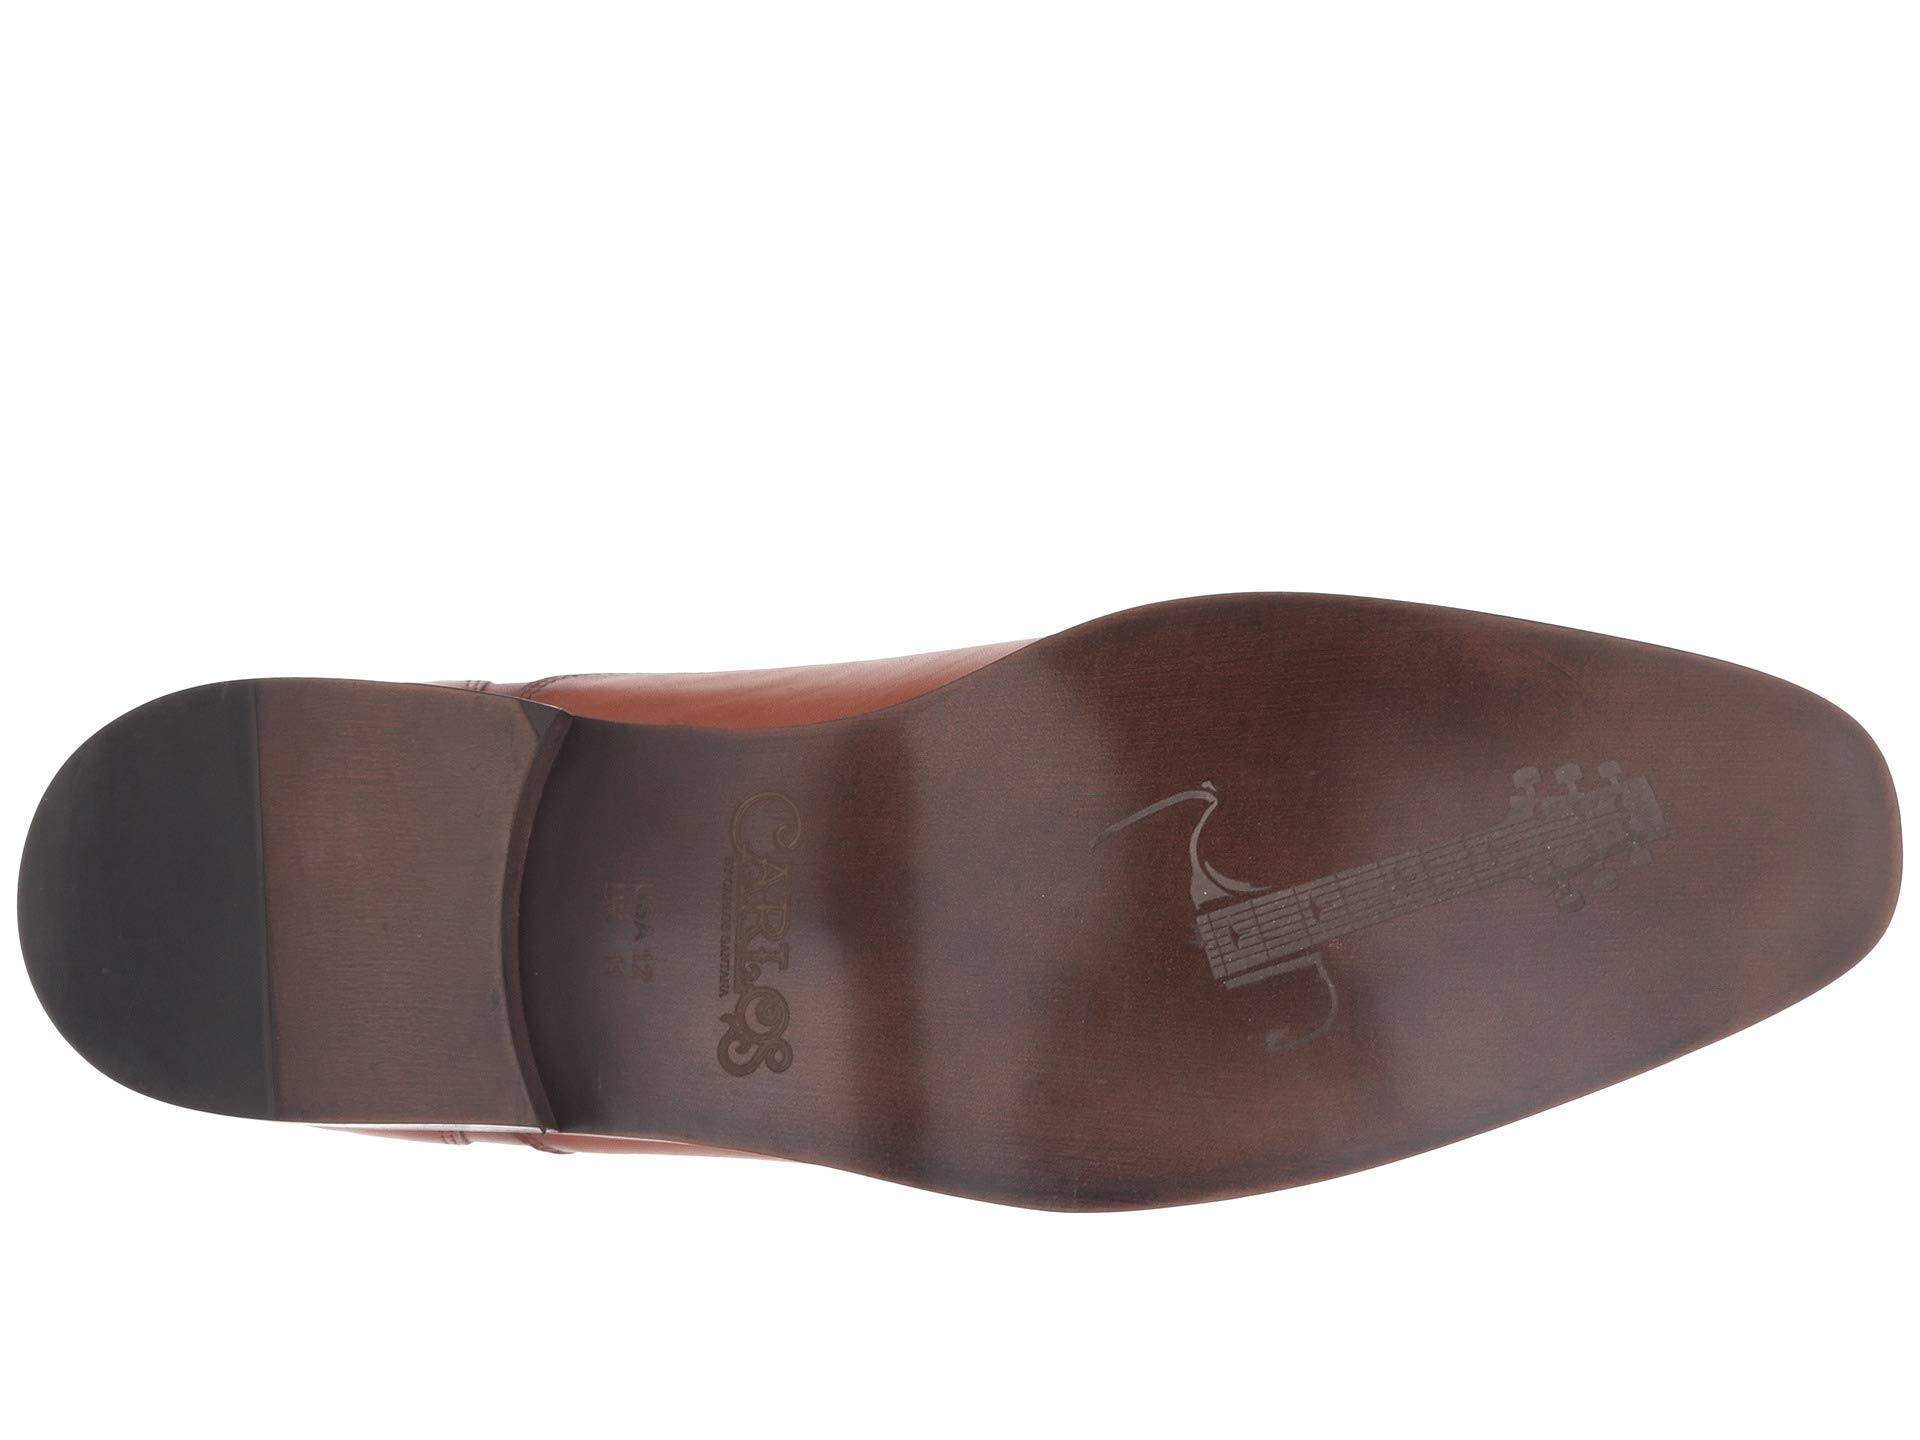line: (181, 691, 360, 1115), (1223, 827, 1500, 974)
triangle: (1223, 827, 1500, 974)
